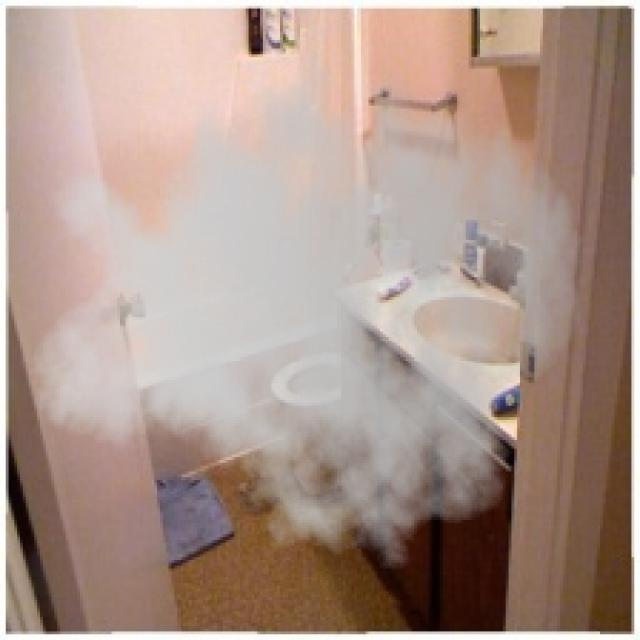Smoke: (28, 20, 583, 583)
